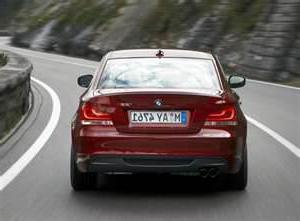Car: (50, 46, 257, 199)
